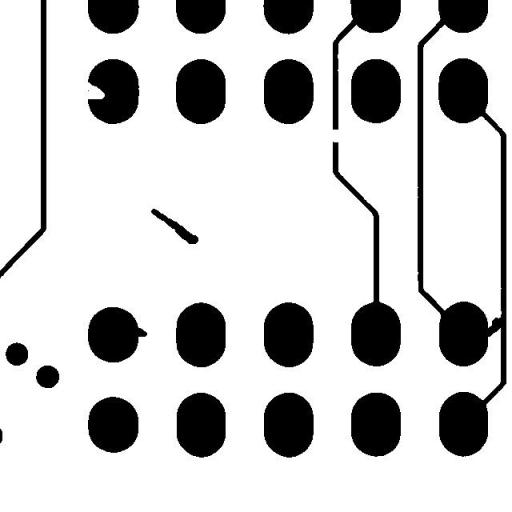copper: (143, 201, 206, 251)
mousebite: (68, 73, 112, 106)
open: (318, 122, 354, 150)
short: (470, 310, 511, 346)
spur: (124, 318, 154, 344)
